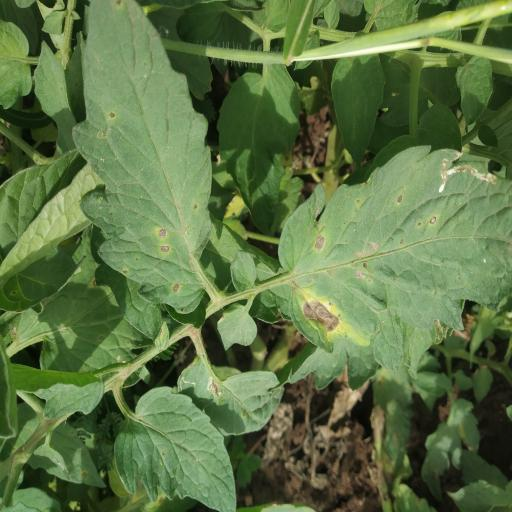Early Blight: (280, 146, 512, 386), (74, 0, 212, 314)
